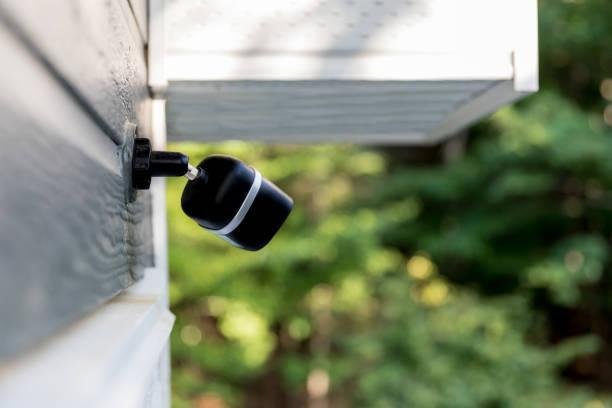camera: (177, 115, 302, 277)
